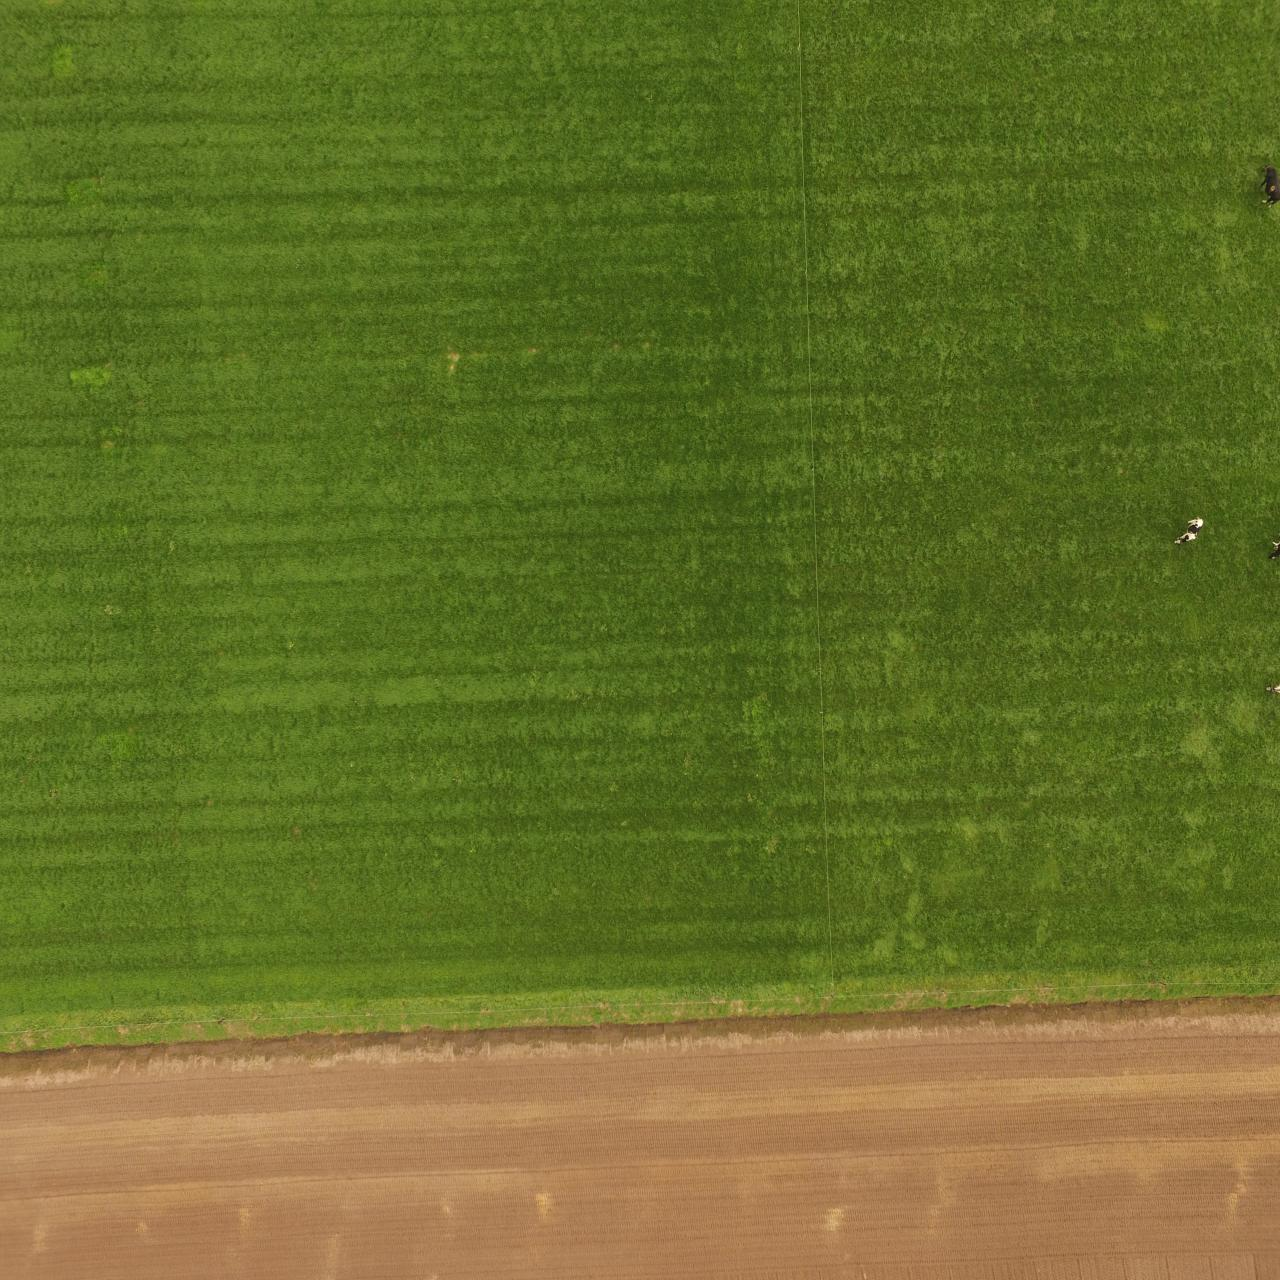cow: (1170, 516, 1205, 554)
